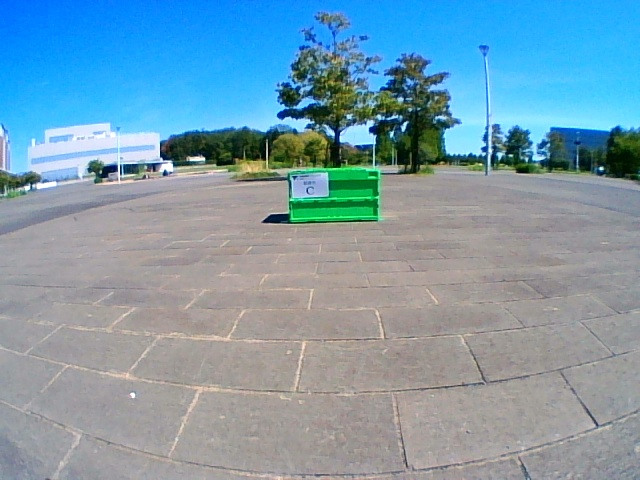green_box: (288, 168, 380, 222)
tag_c: (292, 175, 328, 196)
